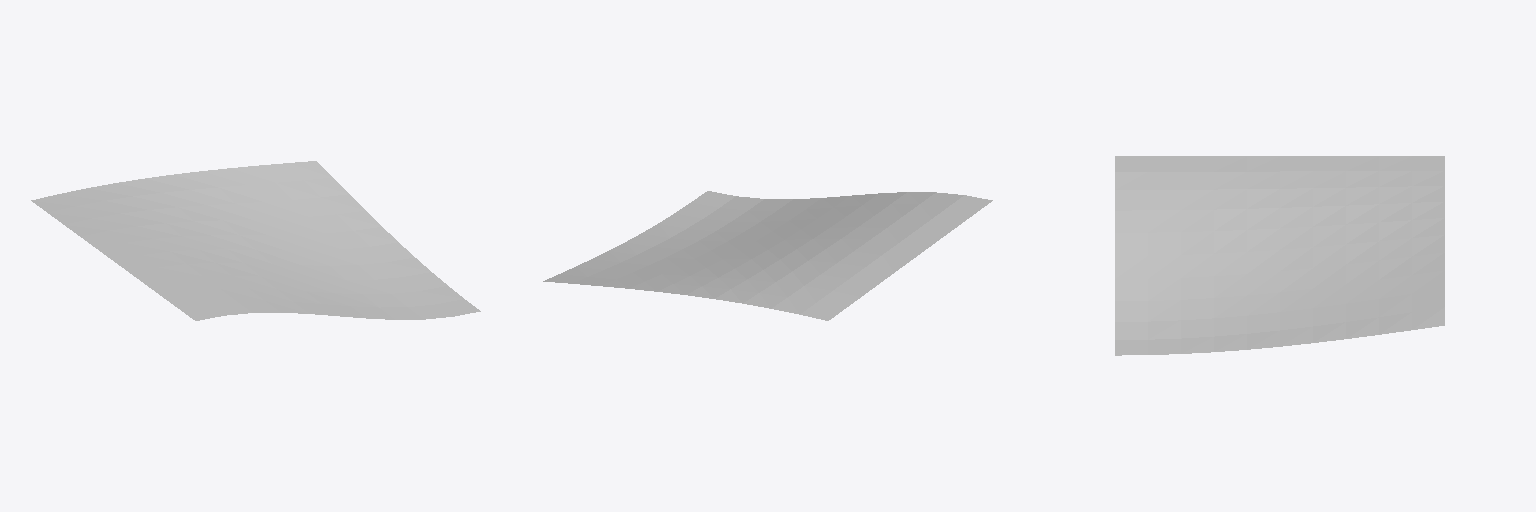
The model's file is grass_bottom_mid_to_top.obj.
3 renders of one model, left to right at view 1: azimuth 30°, elevation 25°; view 2: azimuth 150°, elevation 25°; view 3: azimuth 270°, elevation 25°, orthographic.
Parts seen in each view (by area): view 1: Grass_Plane.015; view 2: Grass_Plane.015; view 3: Grass_Plane.015.
Boxes of the visible parts, x1,y1,x2,y2 form: Grass_Plane.015: [31, 161, 480, 320]; Grass_Plane.015: [543, 191, 992, 320]; Grass_Plane.015: [1115, 156, 1444, 355].
Bounding box in the file's own units: 10 × 2 × 10.